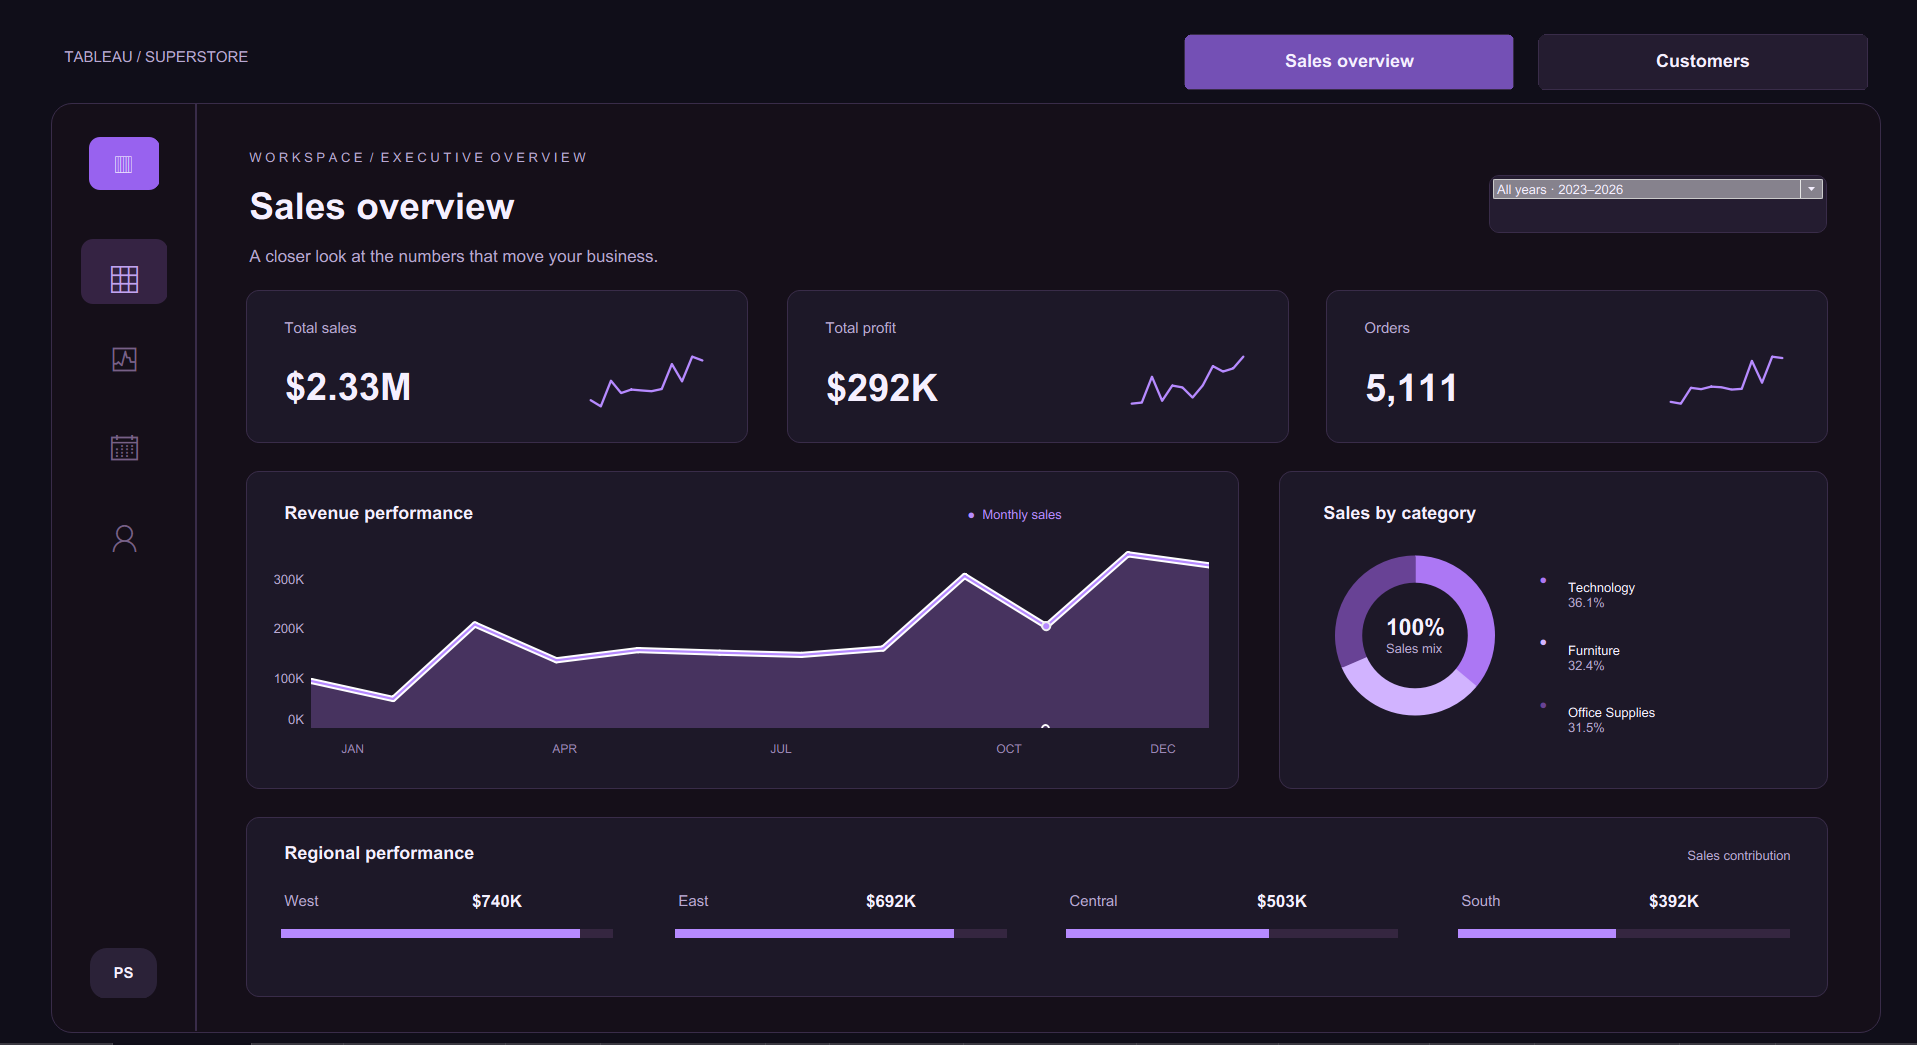

The page's visual inventory and layout, read from the dashboard file:
{"tool":"tableau","page":{"name":"Sales overview","canvas":[1000,1000],"units":"permille","ordinal":1},"visuals":[{"type":"dashboard-object","box":[616.8,32.8,172.1,54.1]},{"type":"dashboard-object","box":[801.2,32.8,172.1,54.1]},{"type":"text","box":[31.8,38.5,420,31.3]},{"type":"blank","box":[26.6,98.3,952.9,891.7]},{"type":"blank","box":[101.4,99.7,1,888.9]},{"type":"blank","box":[46.1,131.1,36.9,51.3]},{"type":"text","box":[49.2,136.8,30.7,42.7]},{"type":"text","box":[128.1,136.8,614.8,28.5]},{"type":"parameter","param":"[Parameters].[Reporting Year]","box":[775.6,168.1,176.2,55.6]},{"type":"text","box":[128.1,170.9,522.5,55.6]},{"type":"text","box":[128.1,227.9,635.2,34.2]},{"type":"blank","box":[42,229.3,45.1,62.7]},{"type":"text","box":[44.1,246.4,41,42.7]},{"type":"blank","box":[128.1,277.8,261.3,146.7]},{"type":"blank","box":[409.8,277.8,261.3,146.7]},{"type":"blank","box":[690.6,277.8,261.3,146.7]},{"type":"text","box":[146.5,300.6,184.4,28.5]},{"type":"text","box":[428.3,300.6,184.4,28.5]},{"type":"text","box":[709,300.6,184.4,28.5]},{"type":"text","box":[44.1,323.4,41,42.7]},{"type":"worksheet","title":"Total sales sparkline","mark":"Line","rows":["Sales"],"cols":["Month number"],"box":[302.2,337.6,68.7,61.2]},{"type":"worksheet","title":"Total profit sparkline","mark":"Line","rows":["Profit"],"cols":["Month number"],"box":[584,337.6,68.7,61.2]},{"type":"worksheet","title":"Orders sparkline","mark":"Line","rows":["Total orders"],"cols":["Month number"],"box":[864.8,337.6,68.7,61.2]},{"type":"worksheet","title":"Total sales","mark":"Text","box":[146.5,340.5,151.6,64.1]},{"type":"worksheet","title":"Total profit","mark":"Text","box":[428.3,340.5,151.6,64.1]},{"type":"worksheet","title":"Orders","mark":"Text","box":[709,340.5,151.6,64.1]},{"type":"text","box":[44.1,408.8,41,42.7]},{"type":"blank","box":[128.1,451.6,517.4,304.8]},{"type":"blank","box":[666,451.6,285.9,304.8]},{"type":"text","box":[146.5,474.4,297.1,34.2]},{"type":"text","box":[687.5,474.4,235.7,34.2]},{"type":"text","box":[502.1,477.2,126,31.3]},{"type":"text","box":[44.1,494.3,41,42.7]},{"type":"worksheet","title":"Revenue performance","mark":"Automatic","rows":["Sales","Revenue line"],"cols":["Month number"],"box":[142.4,521.4,487.7,176.6]},{"type":"worksheet","title":"Sales by category","mark":"Automatic","rows":["Donut axis","Donut axis"],"box":[679.3,529.9,115.8,158.1]},{"type":"worksheet","title":"Category sales mix","mark":"Text","rows":["Category"],"box":[814.6,541.3,129.1,179.5]},{"type":"text","box":[800.2,542.7,12.3,25.6]},{"type":"text","box":[800.2,602.6,12.3,25.6]},{"type":"text","box":[800.2,662.4,12.3,25.6]},{"type":"text","box":[176.2,706.6,32.8,22.8]},{"type":"text","box":[285.9,706.6,32.8,22.8]},{"type":"text","box":[399.6,706.6,32.8,22.8]},{"type":"text","box":[517.4,706.6,32.8,22.8]},{"type":"text","box":[597.3,706.6,32.8,22.8]},{"type":"blank","box":[128.1,783.5,823.8,172.4]},{"type":"text","box":[146.5,800.6,409.8,35.6]},{"type":"text","box":[792,806.3,142.4,28.5]},{"type":"worksheet","title":"Region West sales","mark":"Text","box":[243.8,843.3,75.8,41.3]},{"type":"worksheet","title":"Region East sales","mark":"Text","box":[448.8,843.3,75.8,41.3]},{"type":"worksheet","title":"Region Central sales","mark":"Text","box":[652.7,843.3,75.8,41.3]},{"type":"worksheet","title":"Region South sales","mark":"Text","box":[856.6,843.3,75.8,41.3]},{"type":"text","box":[146.5,847.6,95.3,32.8]},{"type":"text","box":[351.4,847.6,95.3,32.8]},{"type":"text","box":[555.3,847.6,95.3,32.8]},{"type":"text","box":[759.2,847.6,95.3,32.8]},{"type":"worksheet","title":"Region West","mark":"Automatic","cols":["Bar track","Regional bar"],"box":[146.5,881.8,173.2,25.6]},{"type":"worksheet","title":"Region East","mark":"Automatic","cols":["Bar track","Regional bar"],"box":[351.4,881.8,173.2,25.6]},{"type":"worksheet","title":"Region Central","mark":"Automatic","cols":["Bar track","Regional bar"],"box":[555.3,881.8,173.2,25.6]},{"type":"worksheet","title":"Region South","mark":"Automatic","cols":["Bar track","Regional bar"],"box":[759.2,881.8,173.2,25.6]},{"type":"blank","box":[47.1,908.8,34.8,48.4]},{"type":"text","box":[49.2,918.8,30.7,28.5]}]}

Visuals, with their boxes on the dashboard's canvas, which has no fixed pixel size, in thousandths of its width and height (x1, y1, x2, y2). These are canvas units, not pixel positions in the 1917x1045 screenshot, which may show the page scaled, cropped or inside an application window:
dashboard-object: {"left": 617, "top": 33, "right": 789, "bottom": 87}
dashboard-object: {"left": 801, "top": 33, "right": 973, "bottom": 87}
text: {"left": 32, "top": 38, "right": 452, "bottom": 70}
blank: {"left": 27, "top": 98, "right": 980, "bottom": 990}
blank: {"left": 101, "top": 100, "right": 102, "bottom": 989}
blank: {"left": 46, "top": 131, "right": 83, "bottom": 182}
text: {"left": 49, "top": 137, "right": 80, "bottom": 180}
text: {"left": 128, "top": 137, "right": 743, "bottom": 165}
parameter: {"left": 776, "top": 168, "right": 952, "bottom": 224}
text: {"left": 128, "top": 171, "right": 651, "bottom": 226}
text: {"left": 128, "top": 228, "right": 763, "bottom": 262}
blank: {"left": 42, "top": 229, "right": 87, "bottom": 292}
text: {"left": 44, "top": 246, "right": 85, "bottom": 289}
blank: {"left": 128, "top": 278, "right": 389, "bottom": 424}
blank: {"left": 410, "top": 278, "right": 671, "bottom": 424}
blank: {"left": 691, "top": 278, "right": 952, "bottom": 424}
text: {"left": 146, "top": 301, "right": 331, "bottom": 329}
text: {"left": 428, "top": 301, "right": 613, "bottom": 329}
text: {"left": 709, "top": 301, "right": 893, "bottom": 329}
text: {"left": 44, "top": 323, "right": 85, "bottom": 366}
"Total sales sparkline" worksheet (Line marks): {"left": 302, "top": 338, "right": 371, "bottom": 399}
"Total profit sparkline" worksheet (Line marks): {"left": 584, "top": 338, "right": 653, "bottom": 399}
"Orders sparkline" worksheet (Line marks): {"left": 865, "top": 338, "right": 934, "bottom": 399}
"Total sales" worksheet (Text marks): {"left": 146, "top": 340, "right": 298, "bottom": 405}
"Total profit" worksheet (Text marks): {"left": 428, "top": 340, "right": 580, "bottom": 405}
"Orders" worksheet (Text marks): {"left": 709, "top": 340, "right": 861, "bottom": 405}
text: {"left": 44, "top": 409, "right": 85, "bottom": 452}
blank: {"left": 128, "top": 452, "right": 646, "bottom": 756}
blank: {"left": 666, "top": 452, "right": 952, "bottom": 756}
text: {"left": 146, "top": 474, "right": 444, "bottom": 509}
text: {"left": 688, "top": 474, "right": 923, "bottom": 509}
text: {"left": 502, "top": 477, "right": 628, "bottom": 508}
text: {"left": 44, "top": 494, "right": 85, "bottom": 537}
"Revenue performance" worksheet: {"left": 142, "top": 521, "right": 630, "bottom": 698}
"Sales by category" worksheet: {"left": 679, "top": 530, "right": 795, "bottom": 688}
"Category sales mix" worksheet (Text marks): {"left": 815, "top": 541, "right": 944, "bottom": 721}
text: {"left": 800, "top": 543, "right": 812, "bottom": 568}
text: {"left": 800, "top": 603, "right": 812, "bottom": 628}
text: {"left": 800, "top": 662, "right": 812, "bottom": 688}
text: {"left": 176, "top": 707, "right": 209, "bottom": 729}
text: {"left": 286, "top": 707, "right": 319, "bottom": 729}
text: {"left": 400, "top": 707, "right": 432, "bottom": 729}
text: {"left": 517, "top": 707, "right": 550, "bottom": 729}
text: {"left": 597, "top": 707, "right": 630, "bottom": 729}
blank: {"left": 128, "top": 784, "right": 952, "bottom": 956}
text: {"left": 146, "top": 801, "right": 556, "bottom": 836}
text: {"left": 792, "top": 806, "right": 934, "bottom": 835}
"Region West sales" worksheet (Text marks): {"left": 244, "top": 843, "right": 320, "bottom": 885}
"Region East sales" worksheet (Text marks): {"left": 449, "top": 843, "right": 525, "bottom": 885}
"Region Central sales" worksheet (Text marks): {"left": 653, "top": 843, "right": 728, "bottom": 885}
"Region South sales" worksheet (Text marks): {"left": 857, "top": 843, "right": 932, "bottom": 885}
text: {"left": 146, "top": 848, "right": 242, "bottom": 880}
text: {"left": 351, "top": 848, "right": 447, "bottom": 880}
text: {"left": 555, "top": 848, "right": 651, "bottom": 880}
text: {"left": 759, "top": 848, "right": 854, "bottom": 880}
"Region West" worksheet: {"left": 146, "top": 882, "right": 320, "bottom": 907}
"Region East" worksheet: {"left": 351, "top": 882, "right": 525, "bottom": 907}
"Region Central" worksheet: {"left": 555, "top": 882, "right": 728, "bottom": 907}
"Region South" worksheet: {"left": 759, "top": 882, "right": 932, "bottom": 907}
blank: {"left": 47, "top": 909, "right": 82, "bottom": 957}
text: {"left": 49, "top": 919, "right": 80, "bottom": 947}
